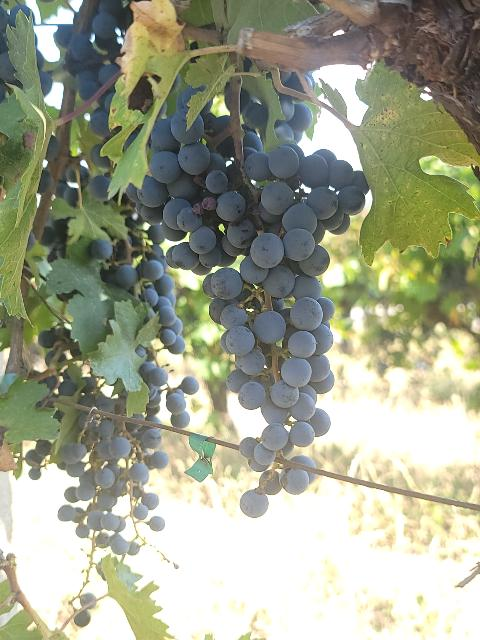grapes: (139, 118, 369, 491), (59, 392, 168, 555), (102, 245, 185, 354), (166, 379, 199, 428), (140, 360, 169, 391)
